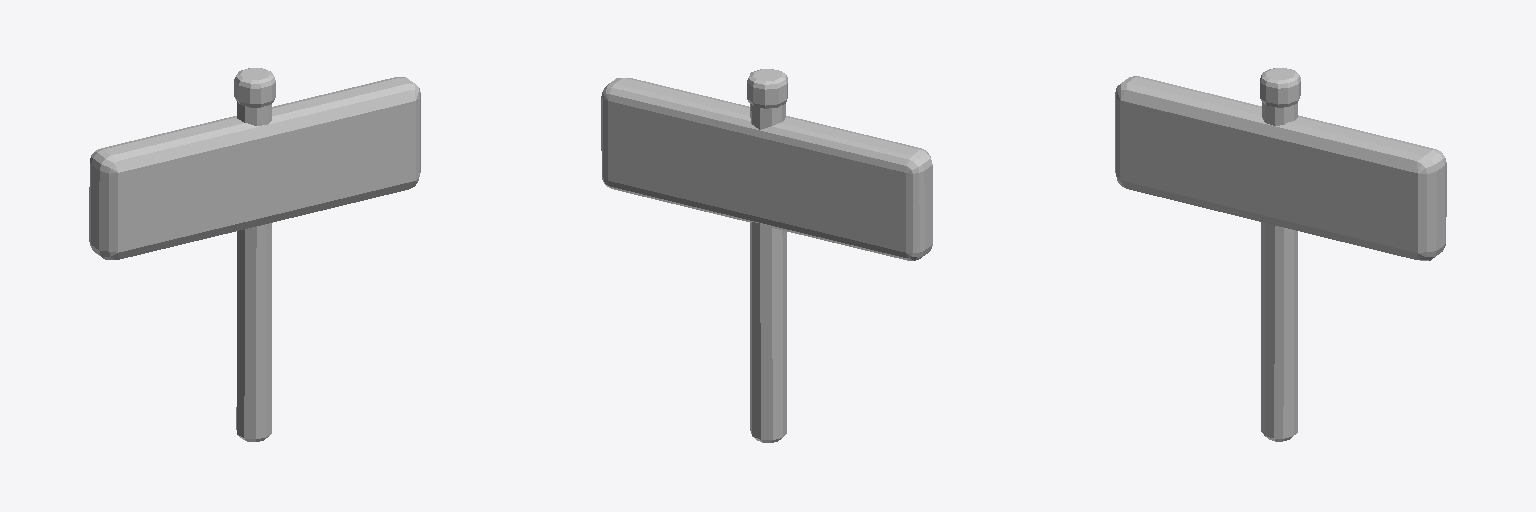
File: letrero.obj
3 renders of one model, left to right at view 1: azimuth 30°, elevation 25°; view 2: azimuth 150°, elevation 25°; view 3: azimuth 330°, elevation 25°, orthographic.
Parts seen in each view (by area): view 1: BalloonBoy.011; view 2: BalloonBoy.011; view 3: BalloonBoy.011.
Part boxes in pixels (x1,y1,x2,y2): BalloonBoy.011: (89, 68, 420, 441); BalloonBoy.011: (601, 69, 932, 442); BalloonBoy.011: (1115, 68, 1446, 441).
Size of the model in its own units: 20.63 by 22.26 by 2.43.